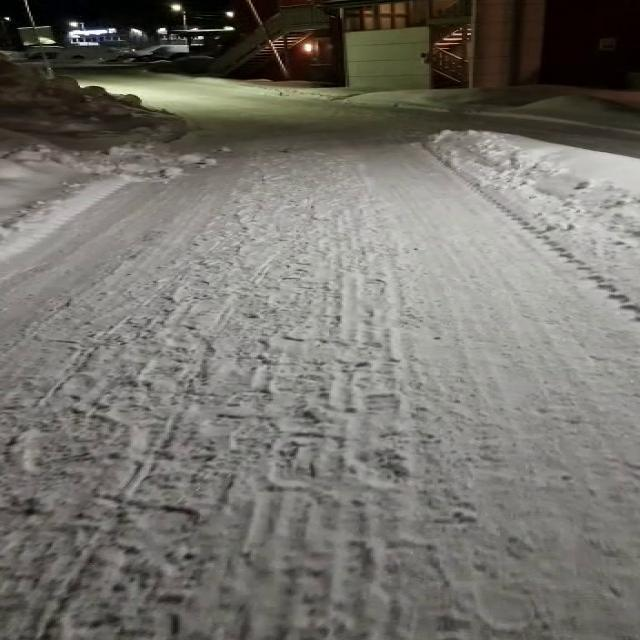path: (2, 70, 638, 640)
